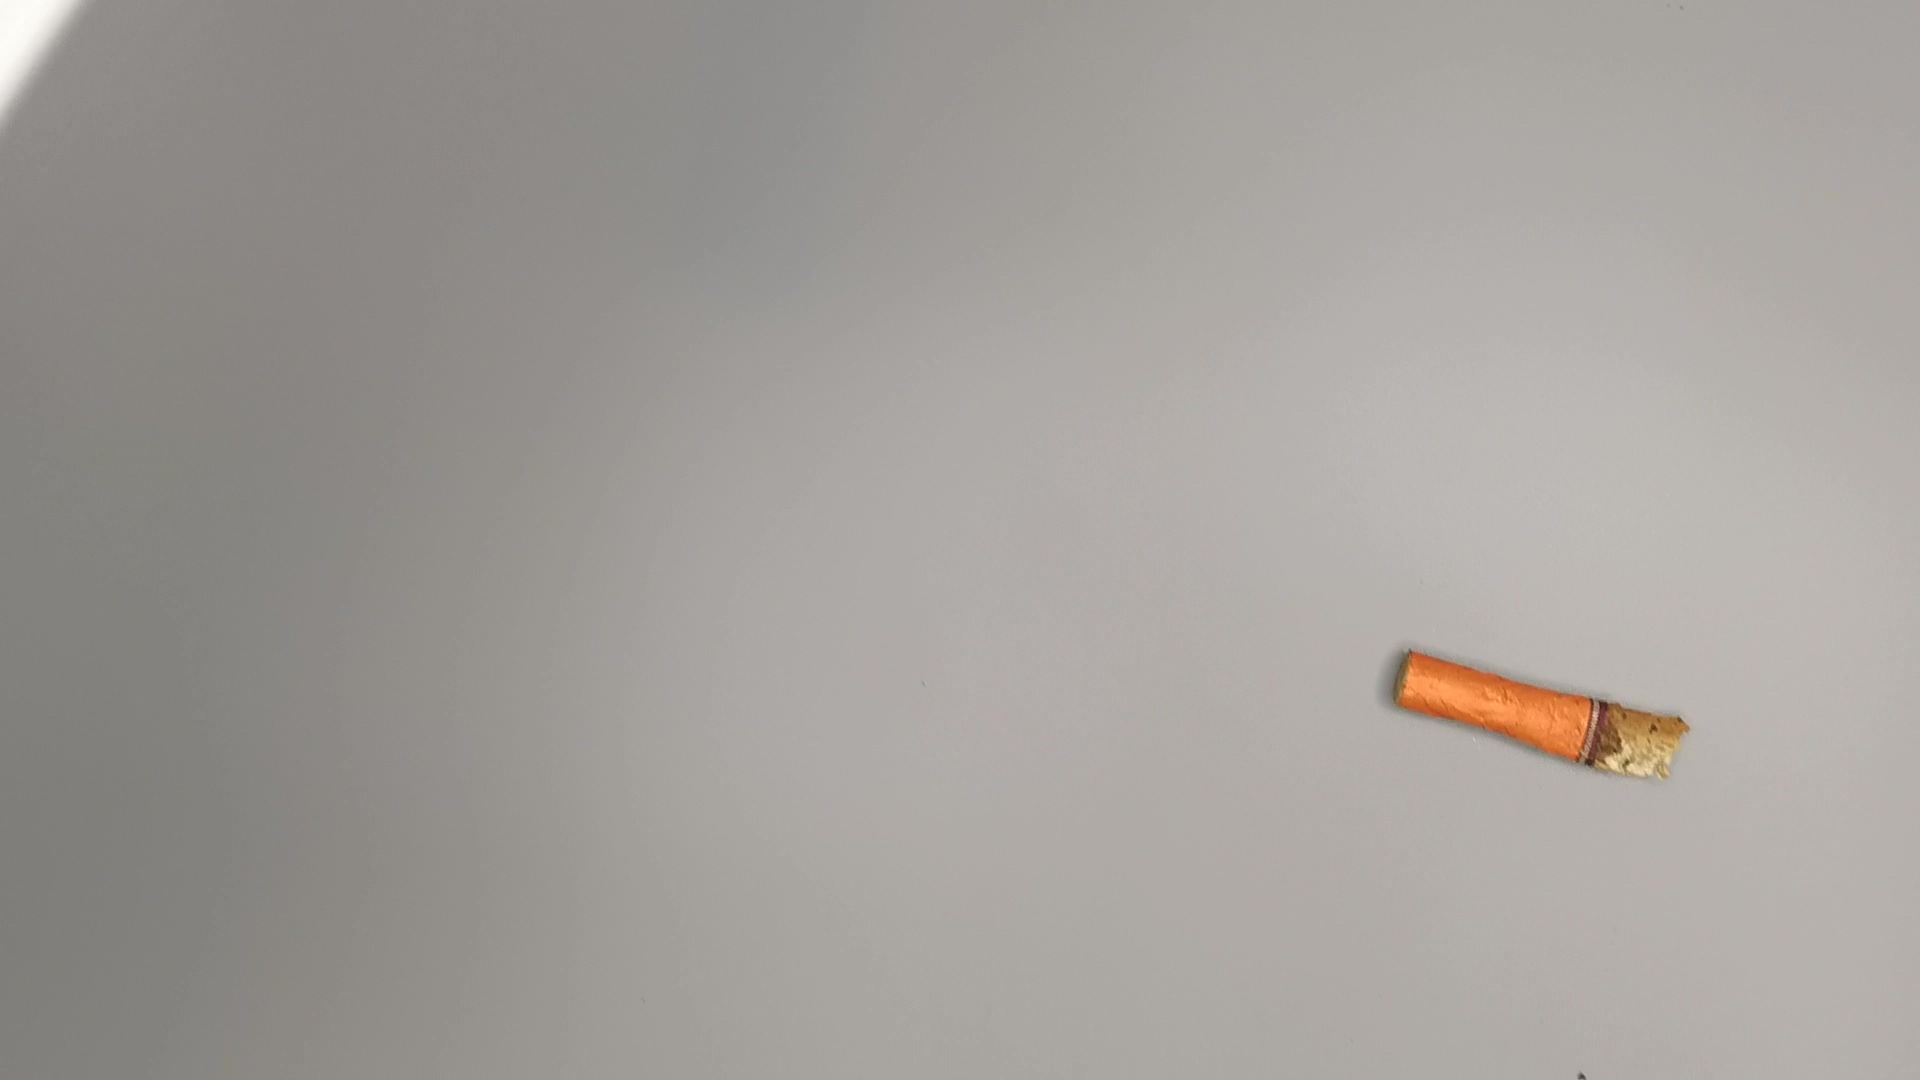cigarette: (1393, 638, 1698, 787)
